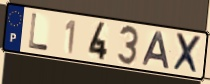1: (64, 19, 77, 55)
3: (116, 25, 141, 67)
4: (87, 21, 109, 62)
A: (141, 31, 171, 71)
L: (27, 12, 50, 53)
X: (171, 31, 203, 77)
